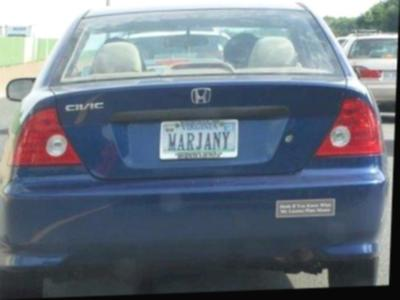License_Plate: (155, 115, 244, 164)
